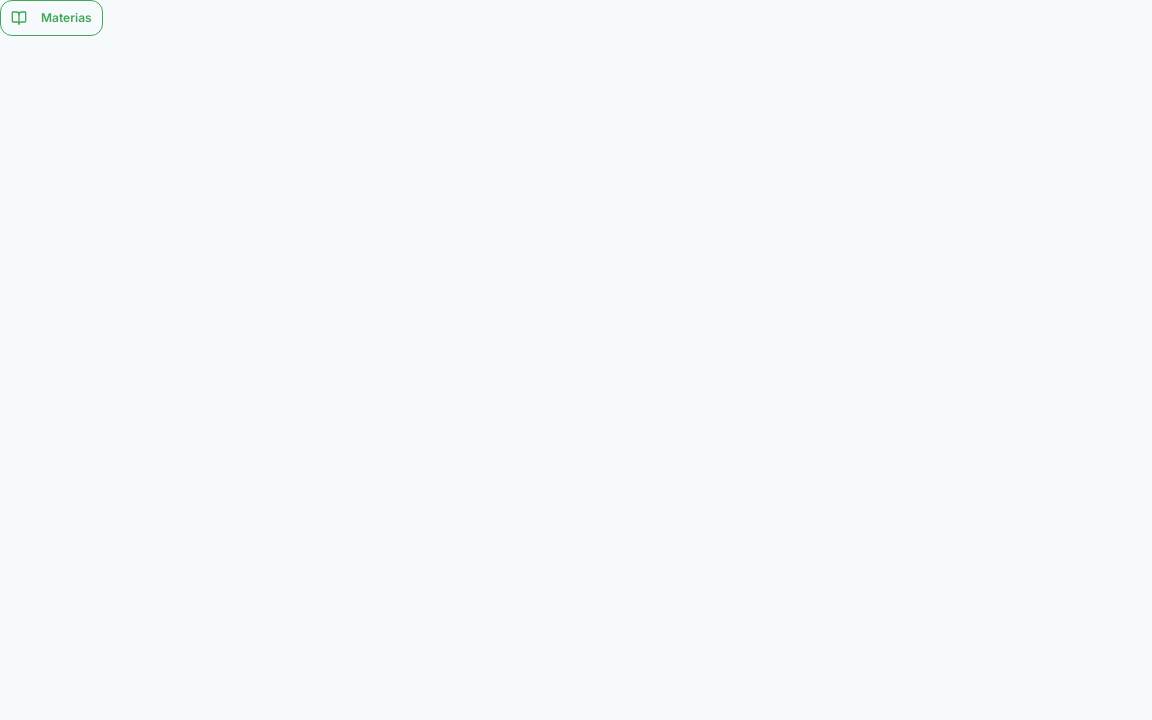
Test case: ManageSubjectsDialog – Pruebas de Integración Gestión de Materias › INT-SUB01 – Carga cursos desde la API al abrir el diálogo
Click the button "Materias": (51, 18) 0,0 -> 103,36
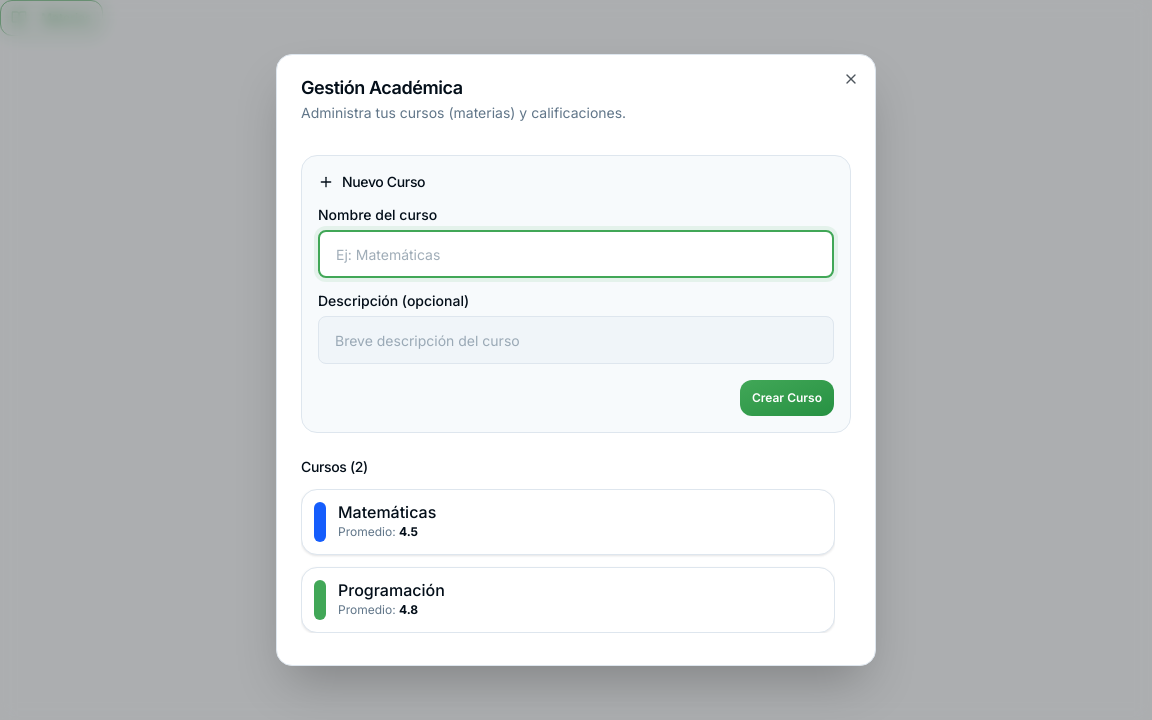
Result: the text "Matemáticas" is shown at 338,504 -> 436,520
Result: the text "Programación" is shown at 338,582 -> 445,598
